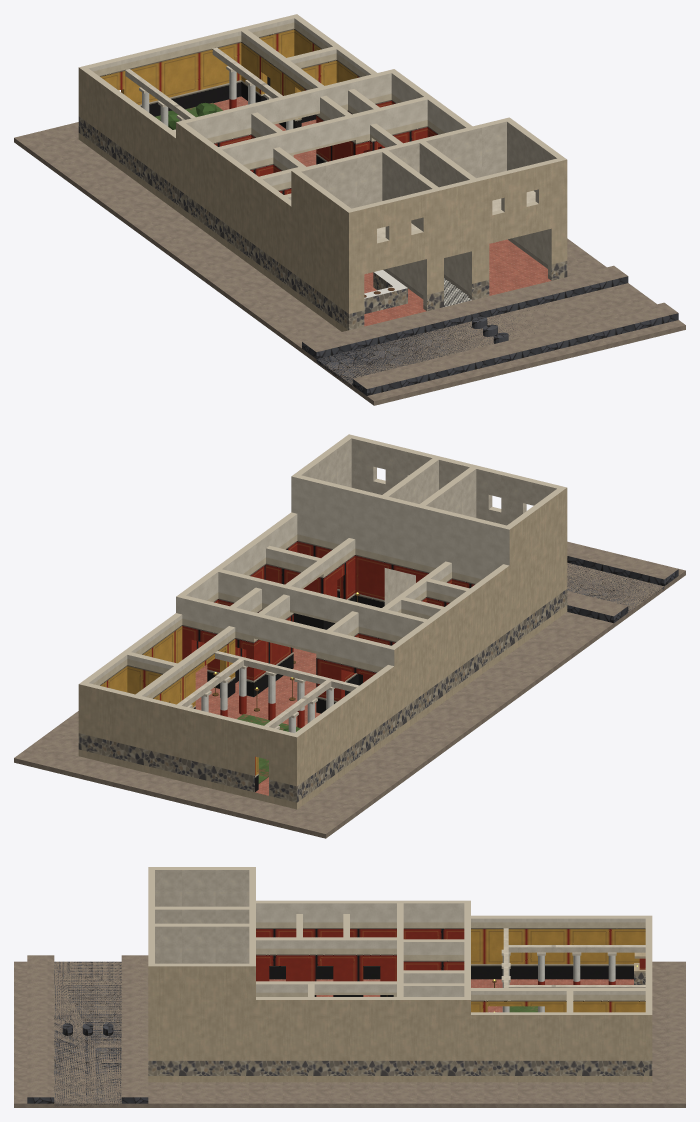
The model's file is pompeii_house_body.glb.
The picture shows the model from 3 angles, top to bottom: view 1: azimuth 30°, elevation 25°; view 2: azimuth 150°, elevation 25°; view 3: azimuth 270°, elevation 25°; orthographic projection. The views are drawn at different scales.
Parts seen in each view (by area): view 1: Walls, Street, Floors, Peristyle; view 2: Walls, Street, Floors, Peristyle; view 3: Walls, Street, Floors, Peristyle.
Boxes of the visible parts, x1,y1,x2,y2 form: Walls: [78, 14, 567, 330]; Street: [14, 122, 685, 405]; Floors: [78, 96, 551, 331]; Peristyle: [125, 48, 293, 131]; Walls: [78, 434, 567, 802]; Street: [14, 541, 685, 838]; Floors: [78, 605, 567, 809]; Peristyle: [177, 651, 359, 783]; Walls: [148, 867, 652, 1075]; Street: [14, 955, 685, 1107]; Floors: [148, 979, 652, 1082]; Peristyle: [501, 928, 645, 1012].
Bounding box in the file's own units: 20 × 7.9 × 40.
Materials: 18 (11 with a texture image).
